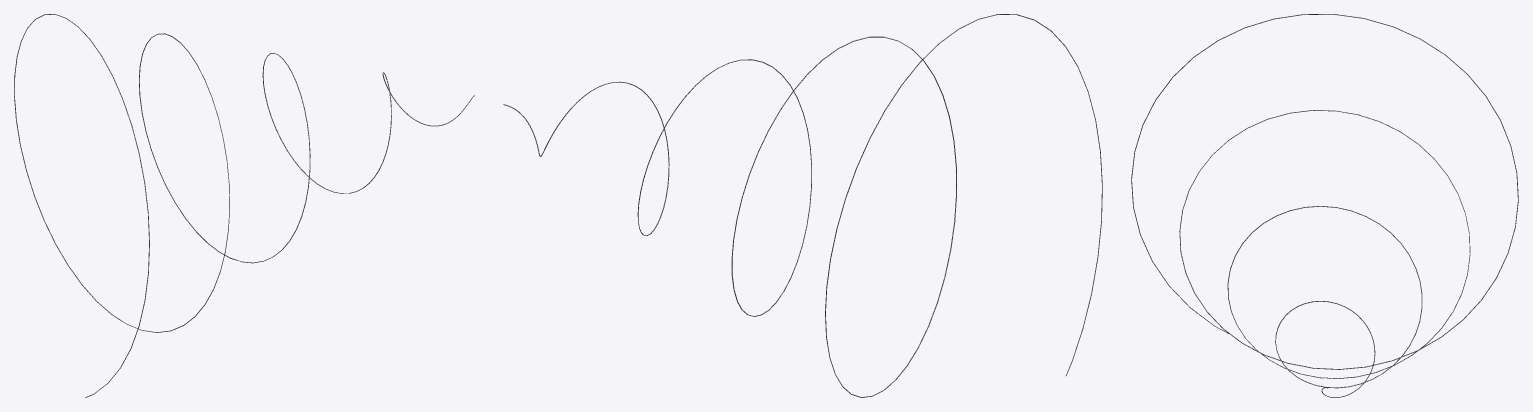
File: spiral6.glb
3 views of the same model, side by side, from view 1: azimuth 30°, elevation 25°; view 2: azimuth 150°, elevation 25°; view 3: azimuth 270°, elevation 25° (orthographic). The views are drawn at different scales.
Visible parts, largest first — view 1: Helix001; view 2: Helix001; view 3: Helix001.
Boxes of the visible parts, <box> form: Helix001: <box>14,14,474,397</box>; Helix001: <box>503,14,1102,397</box>; Helix001: <box>1131,14,1518,397</box>.
Size of the model in its own units: 4.75 by 3.37 by 3.47.
1 material, 1 textured.
